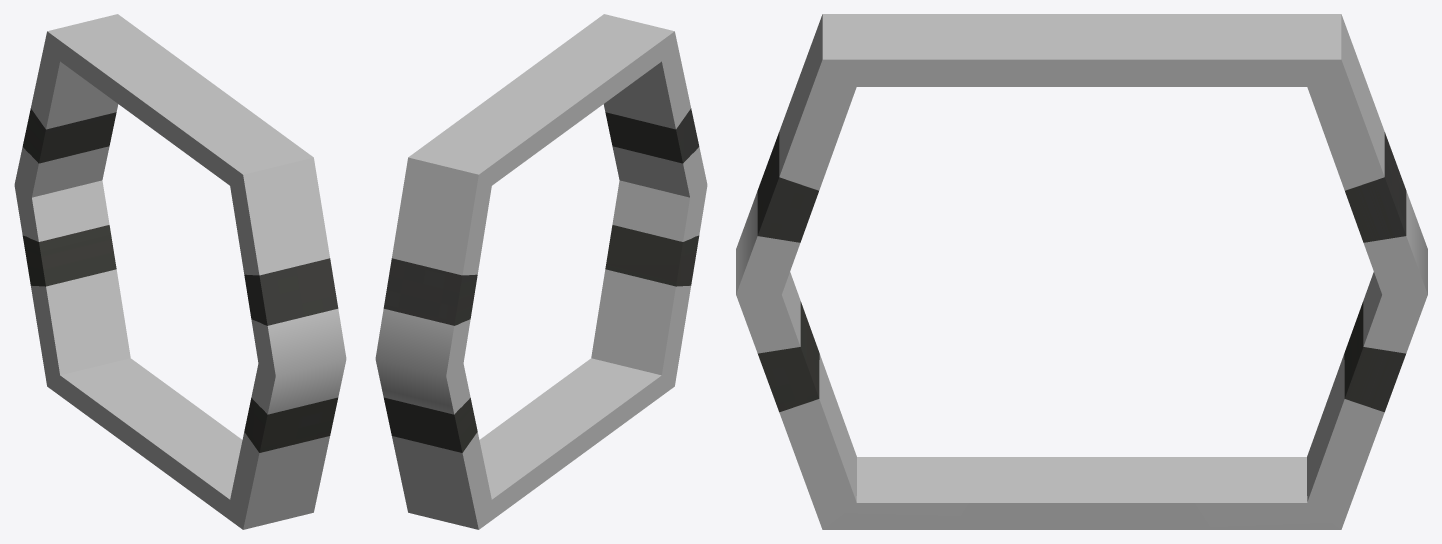
The model's file is Hallway_Doorway.fbx.
3 renders of one model, left to right at view 1: azimuth 30°, elevation 25°; view 2: azimuth 150°, elevation 25°; view 3: azimuth 270°, elevation 25°, orthographic. The views are drawn at different scales.
Visible parts, largest first — view 1: pCube1; view 2: pCube1; view 3: pCube1.
Part boxes in pixels (box(x1,y1,x2,y2)): pCube1: box(14, 14, 346, 529); pCube1: box(375, 14, 707, 529); pCube1: box(736, 14, 1427, 529).
Size of the model in its own units: 0.3128 by 1.5 by 2.
